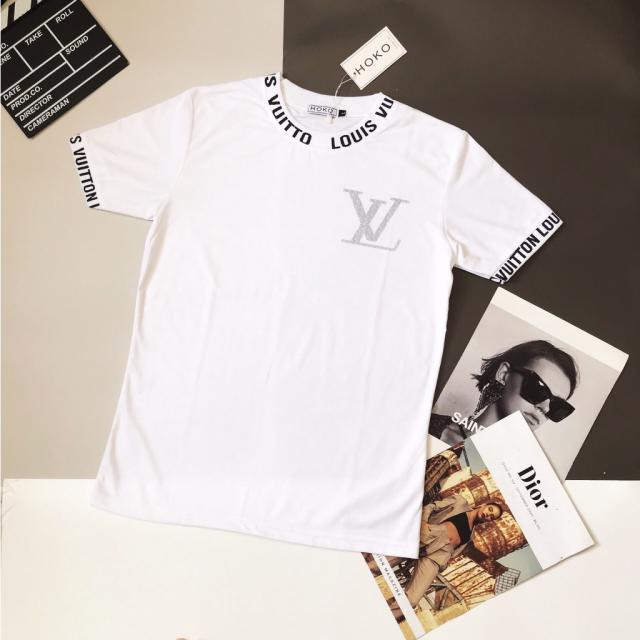Shirt: (53, 65, 570, 562)
